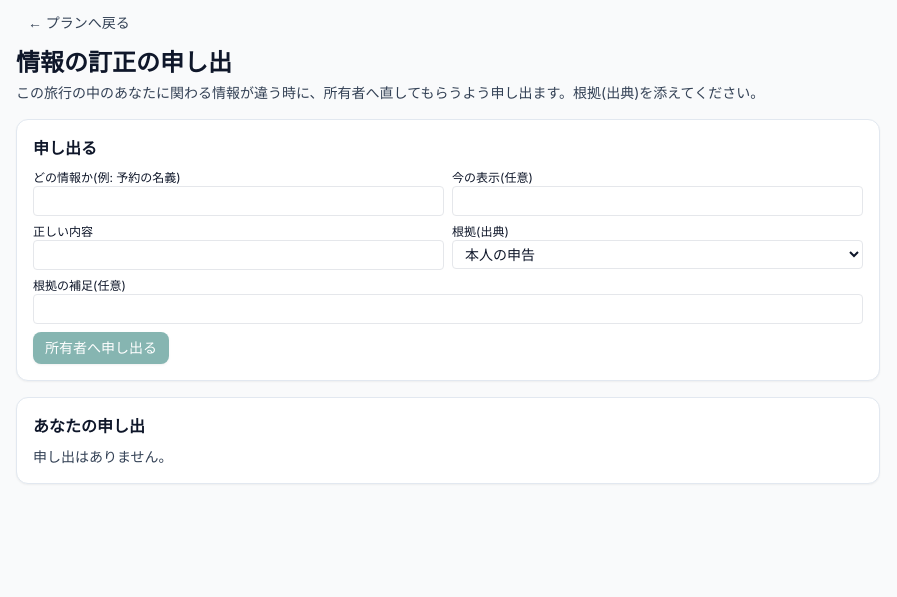
Scenario: CorrectionRequestsPage › 参加者は根拠を添えて申し出る
Expected: the text "申し出はありません。" is shown, [33,448,173,465]
Expected: the button "所有者へ申し出る" is disabled, [33,332,169,364]
Type "名義" into the field labelled "どの情報か(例: 予約の名義)". click: (238, 201)
box: [33,186,444,216]
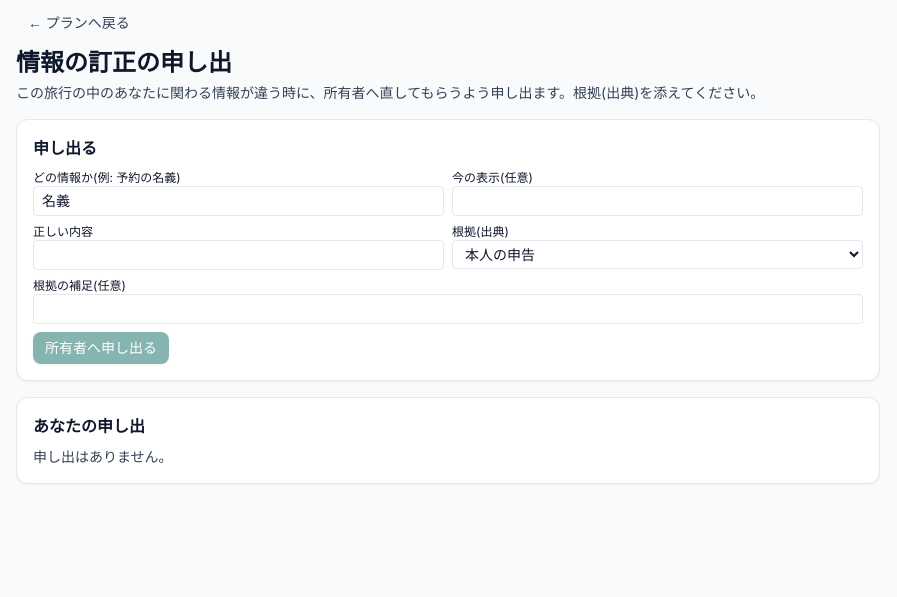
Type "B" into the field labelled "正しい内容". click: (238, 255)
box: [33,240,444,270]
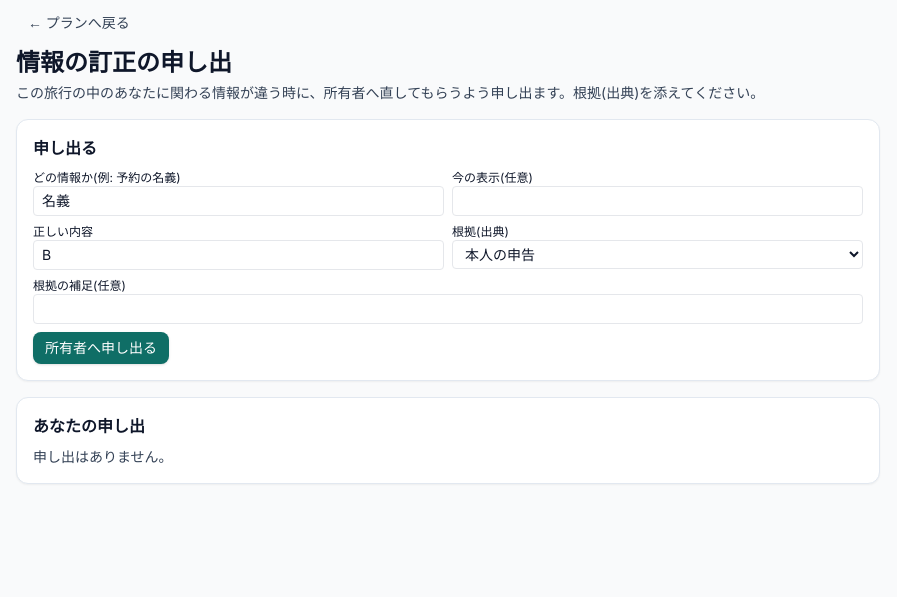
Select "予約の確認書" in the dropdown labelled "根拠(出典)". click: (658, 254)
box: [452,240,863,269]
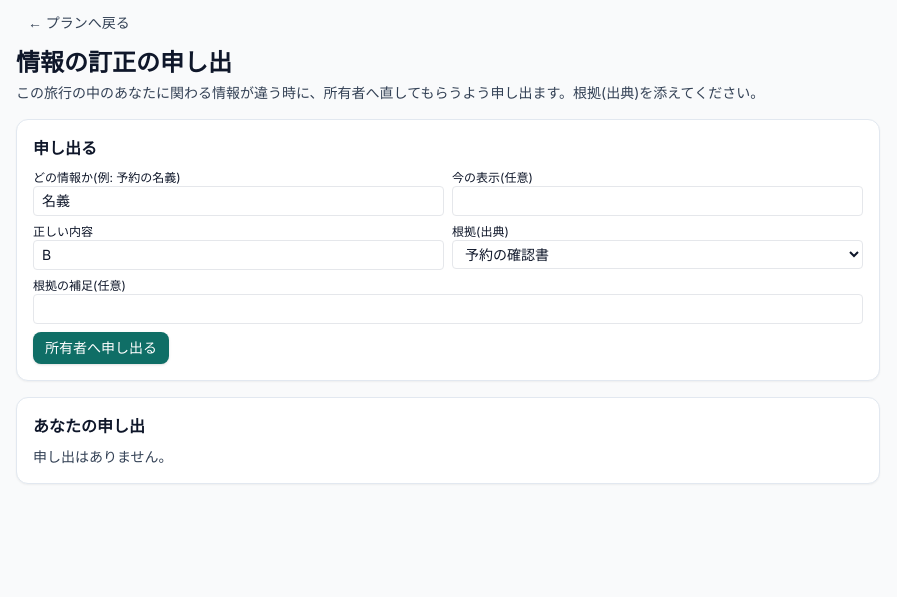
Click the button "所有者へ申し出る". click: (101, 348)
box: [33,332,169,364]
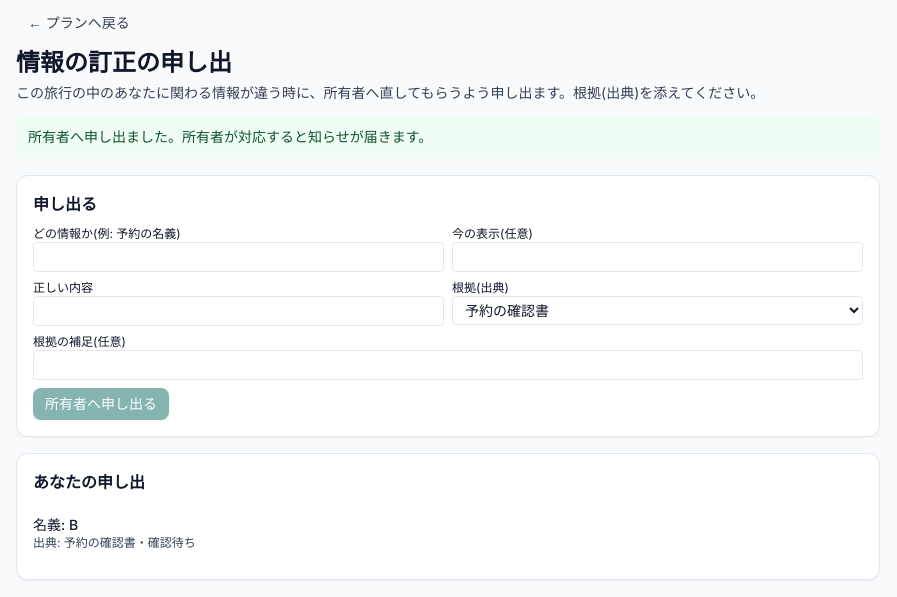
Expected: the message shows "所有者へ申し出ました", [28,128,432,145]
Expected: the list named "あなたの申し出" shows "確認待ち", [33,535,196,550]
